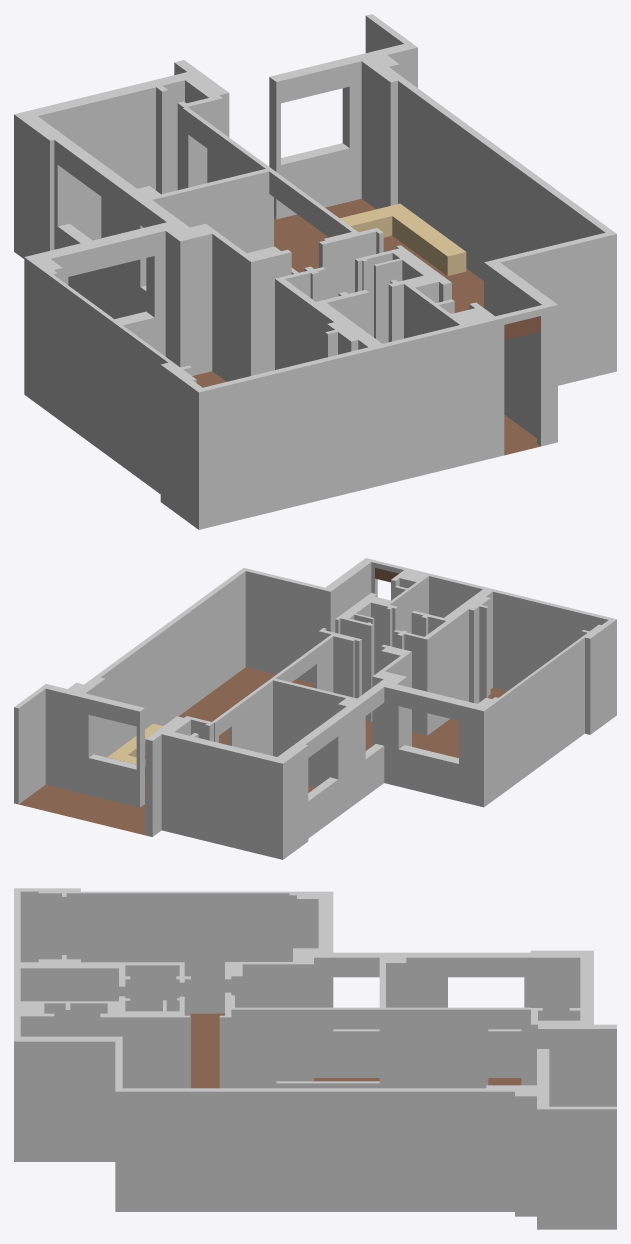
The model's file is yangbanfang.glb.
3 renders of one model, top to bottom at view 1: azimuth 30°, elevation 25°; view 2: azimuth 150°, elevation 25°; view 3: azimuth 270°, elevation 25°, orthographic. The views are drawn at different scales.
Parts seen in each view (by area): view 1: Walls, Floor; view 2: Walls, Floor; view 3: Walls, Floor.
Boxes of the visible parts, x1,y1,x2,y2 form: Walls: [14, 14, 616, 529]; Floor: [93, 198, 540, 455]; Walls: [14, 558, 616, 859]; Floor: [19, 667, 506, 835]; Walls: [14, 888, 616, 1229]; Floor: [191, 1013, 521, 1088].
Bounding box in the file's own units: 9.66 × 2.45 × 11.13.
